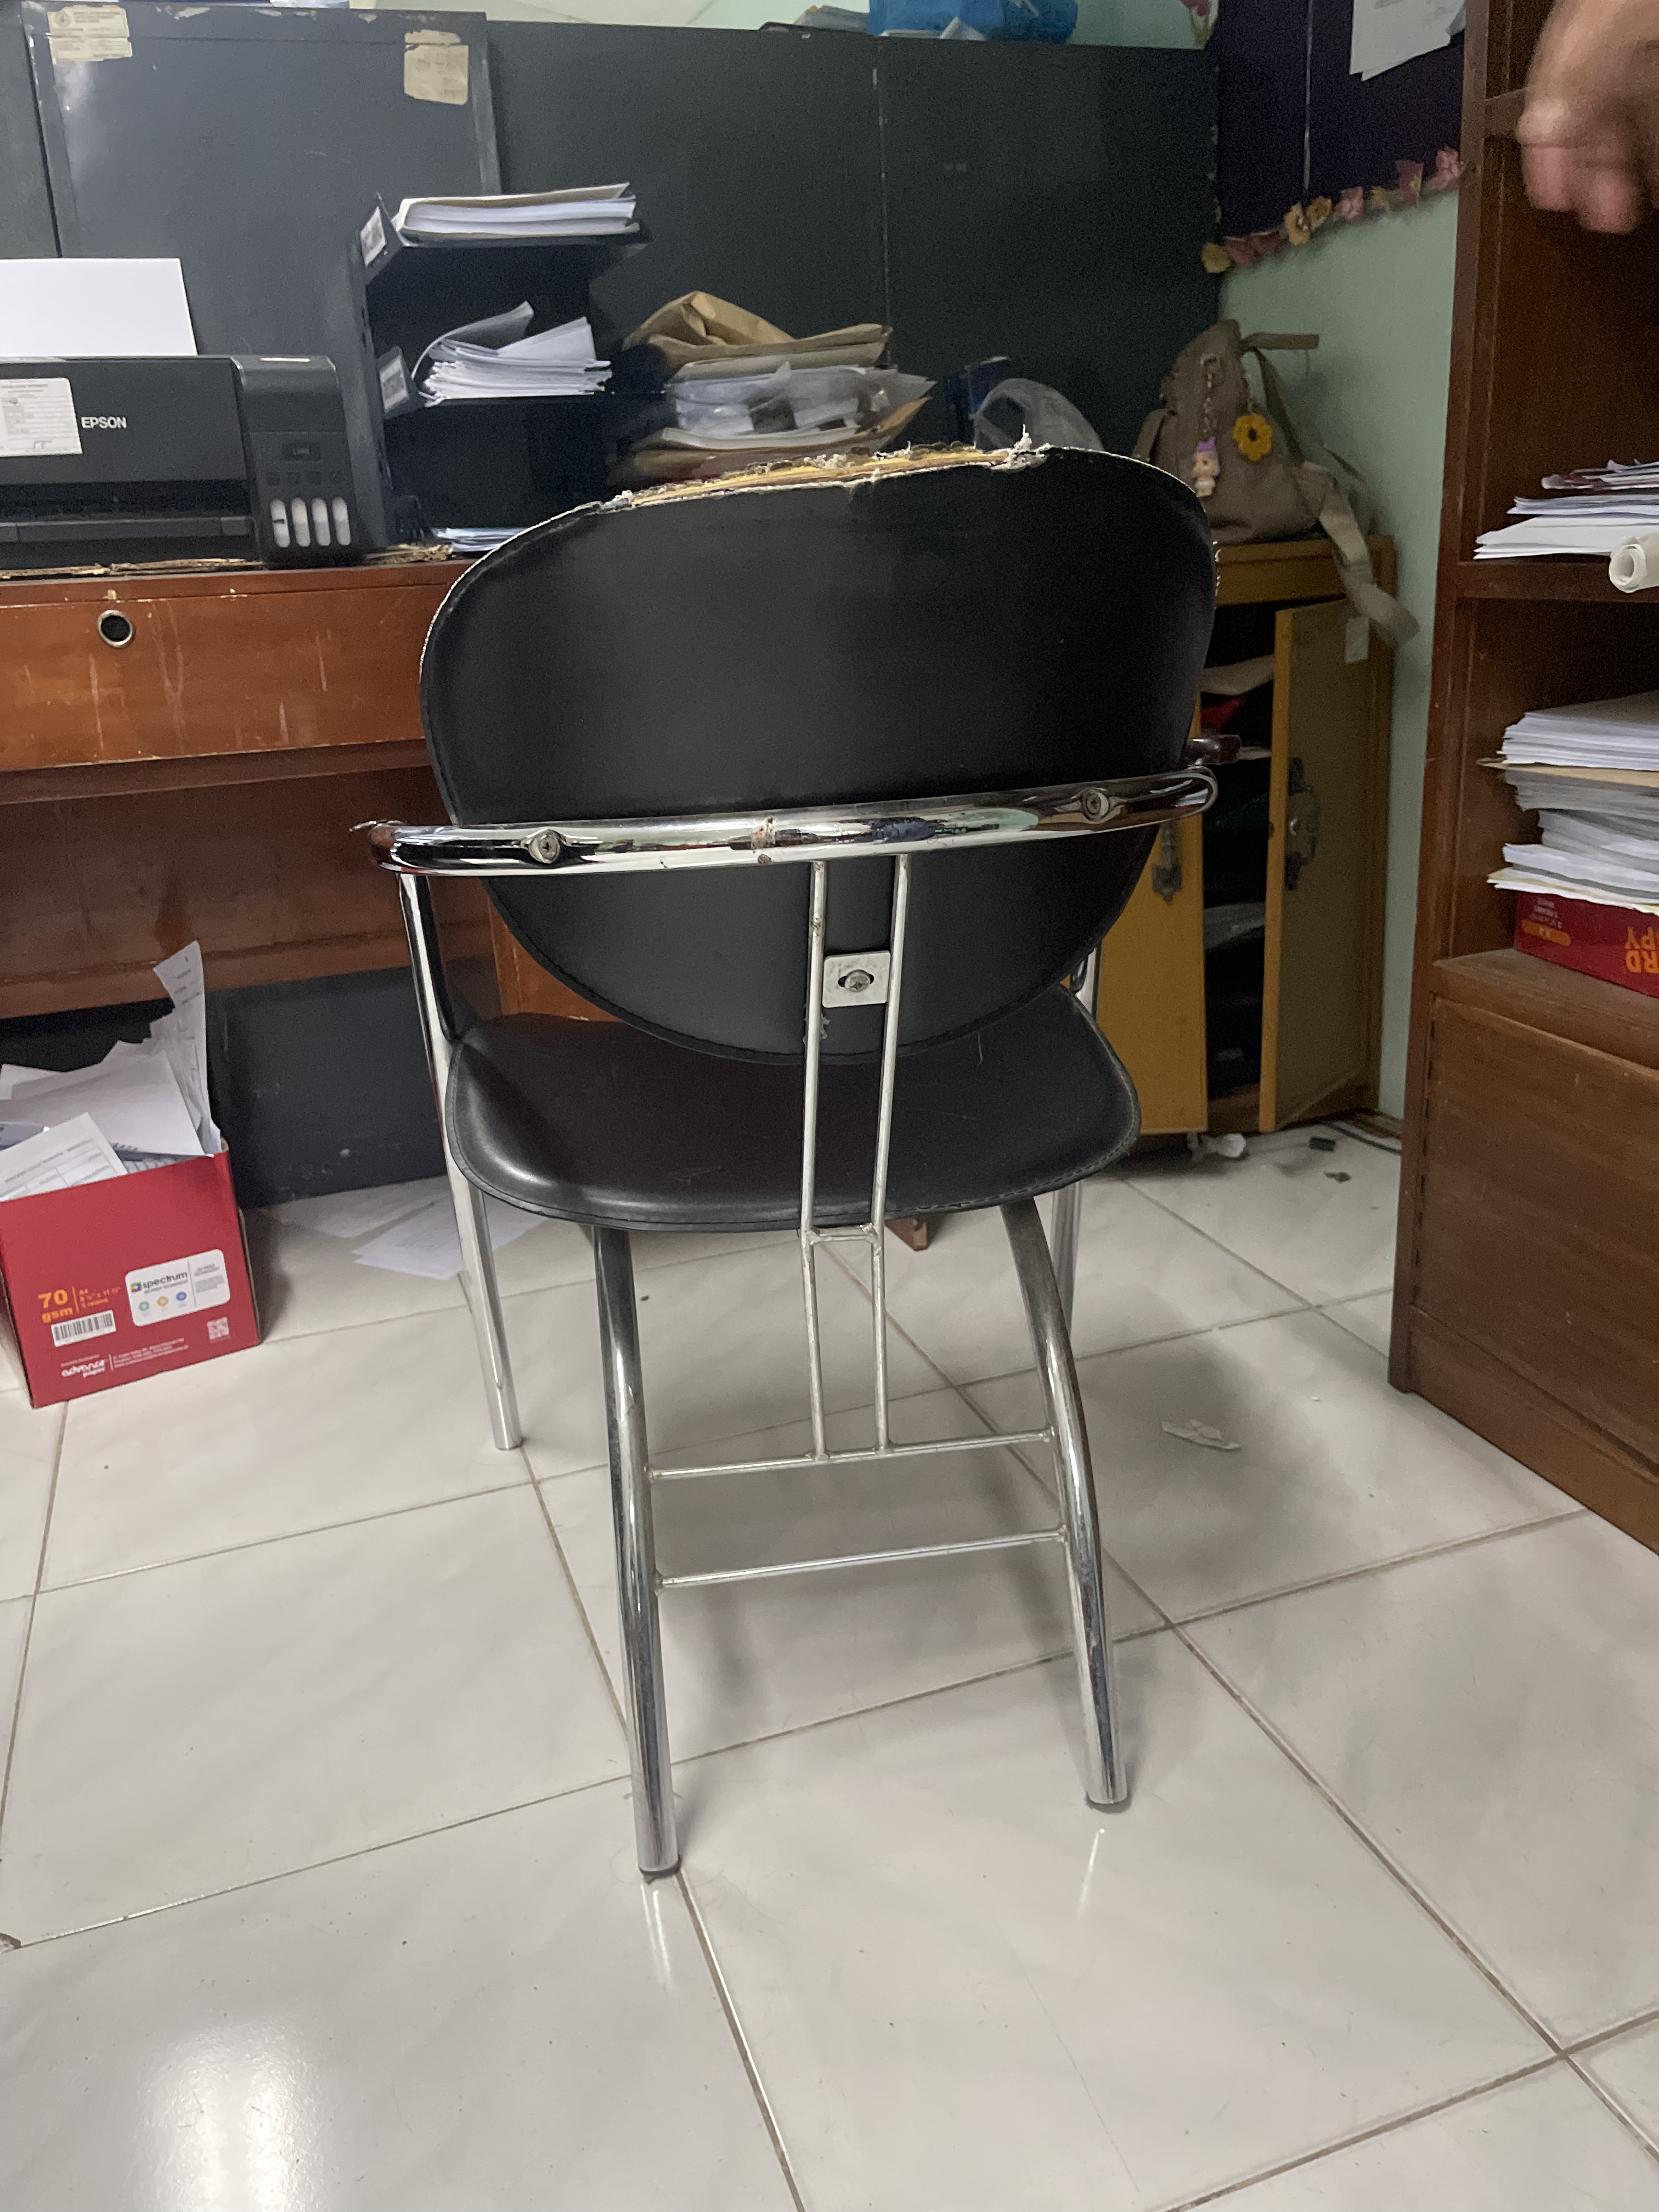chair1: (345, 432, 1251, 1907)
